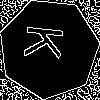K: (24, 23, 73, 62)
